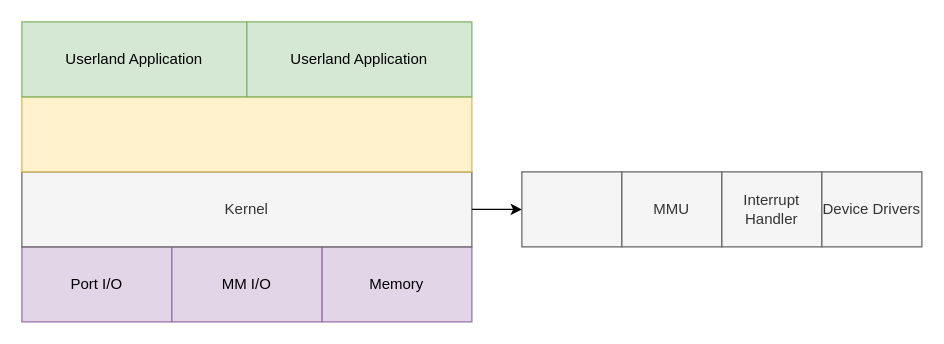
This 944x344 diagram has some shape labels left out. The shapes that lost their labels are listed below. From the top down, each one's centre as x and y in pixels, then its label:
At pixel 246 134: "Syscall API".
At pixel 571 209: "Scheduler".
